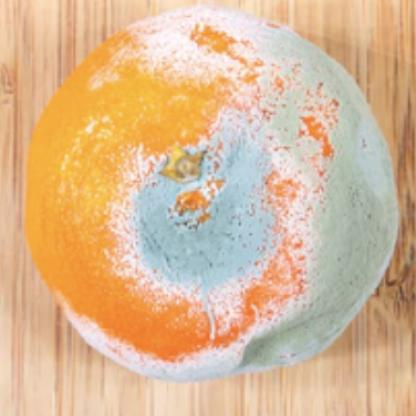rotten: (30, 6, 399, 377)
